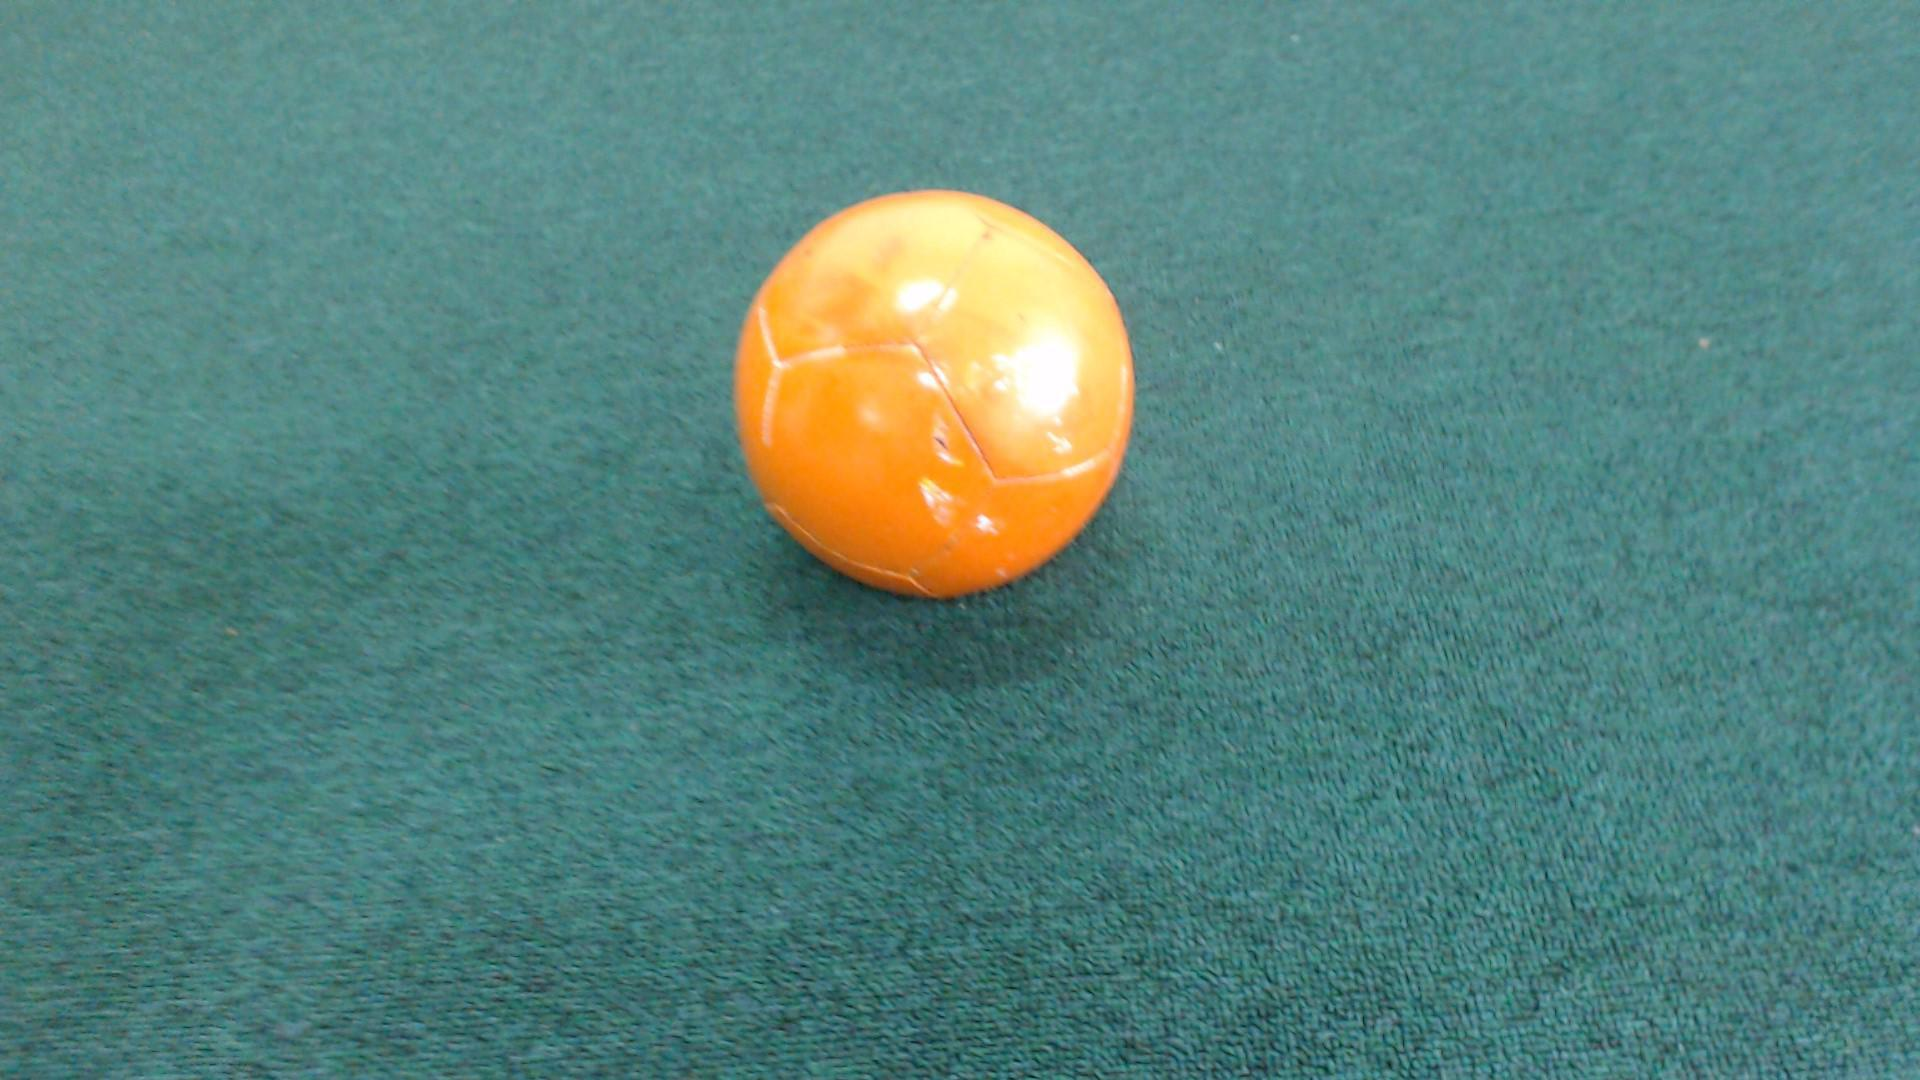bola: (683, 179, 1164, 608)
